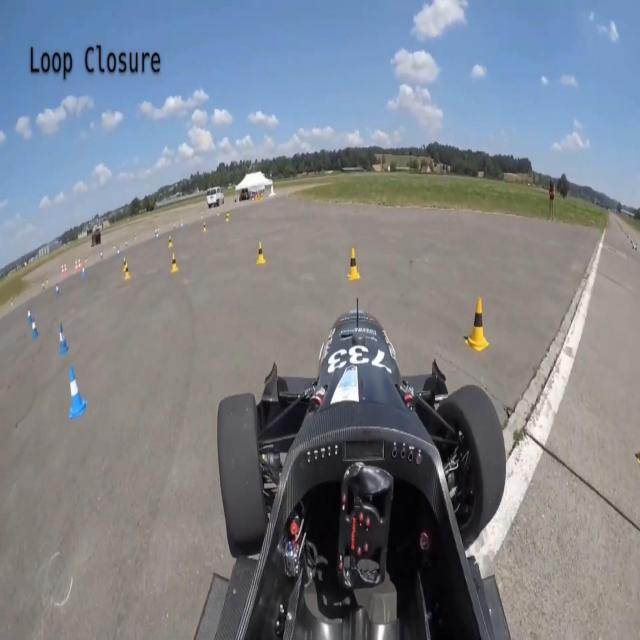blue_cone: (69, 366, 87, 420), (60, 323, 68, 354), (30, 316, 40, 338)
yellow_cone: (466, 296, 489, 351), (348, 248, 360, 280), (256, 241, 265, 265), (170, 252, 179, 273), (125, 261, 131, 281)
